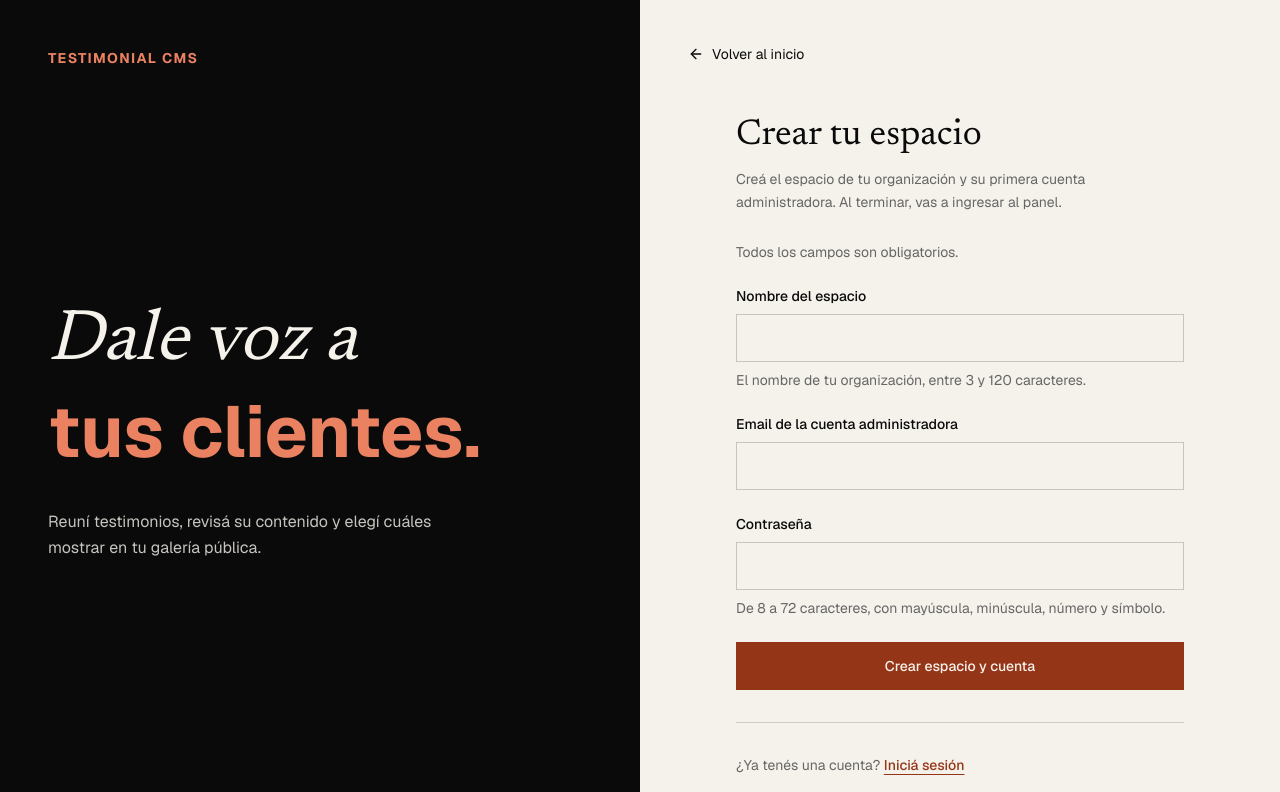
Test: authentication screens › does not navigate or clear session state when registration fails
The image size is (1280, 792).
Type "Espacio sintético" into the field labelled "Nombre del espacio".
click(960, 338); type("Espacio sintético")  # box [736,314,1184,362]
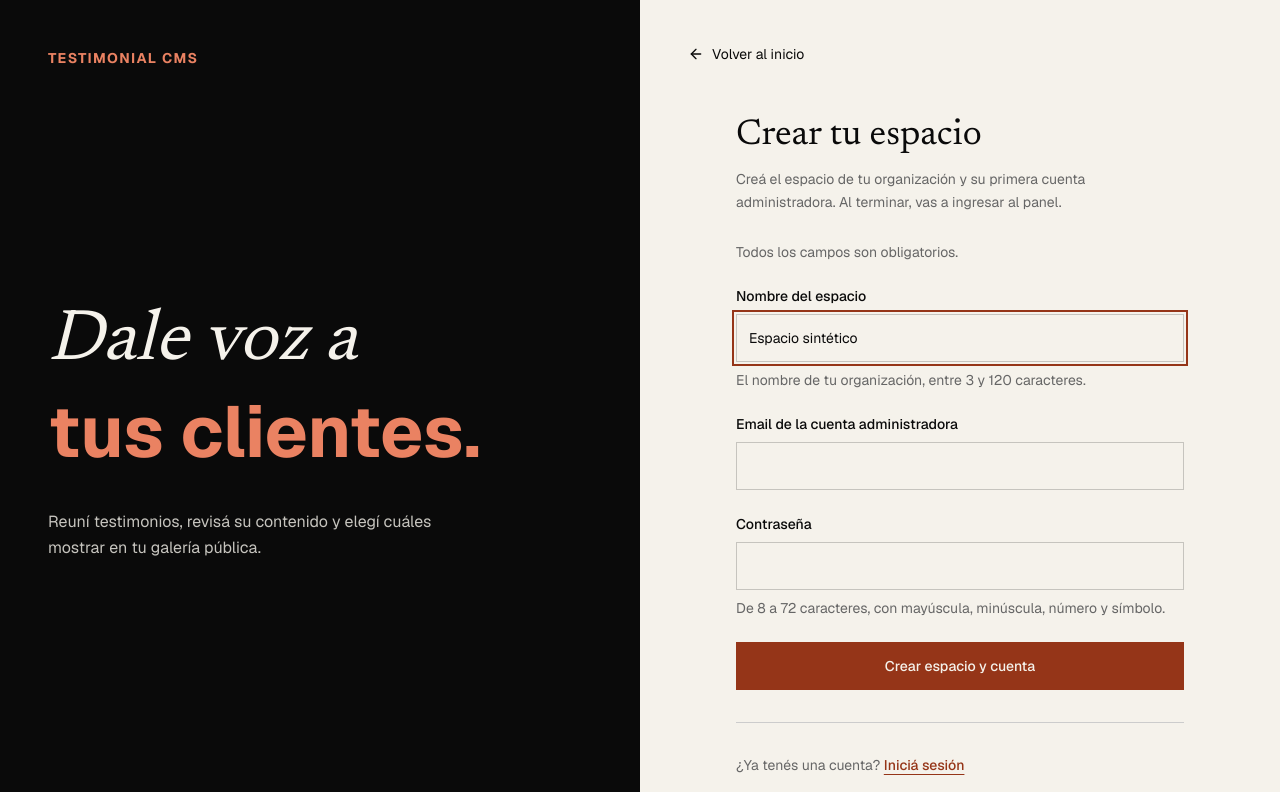
Type "admin@example.invalid" into the field labelled "Email de la cuenta administradora".
click(960, 466); type("admin@example.invalid")  # box [736,442,1184,490]
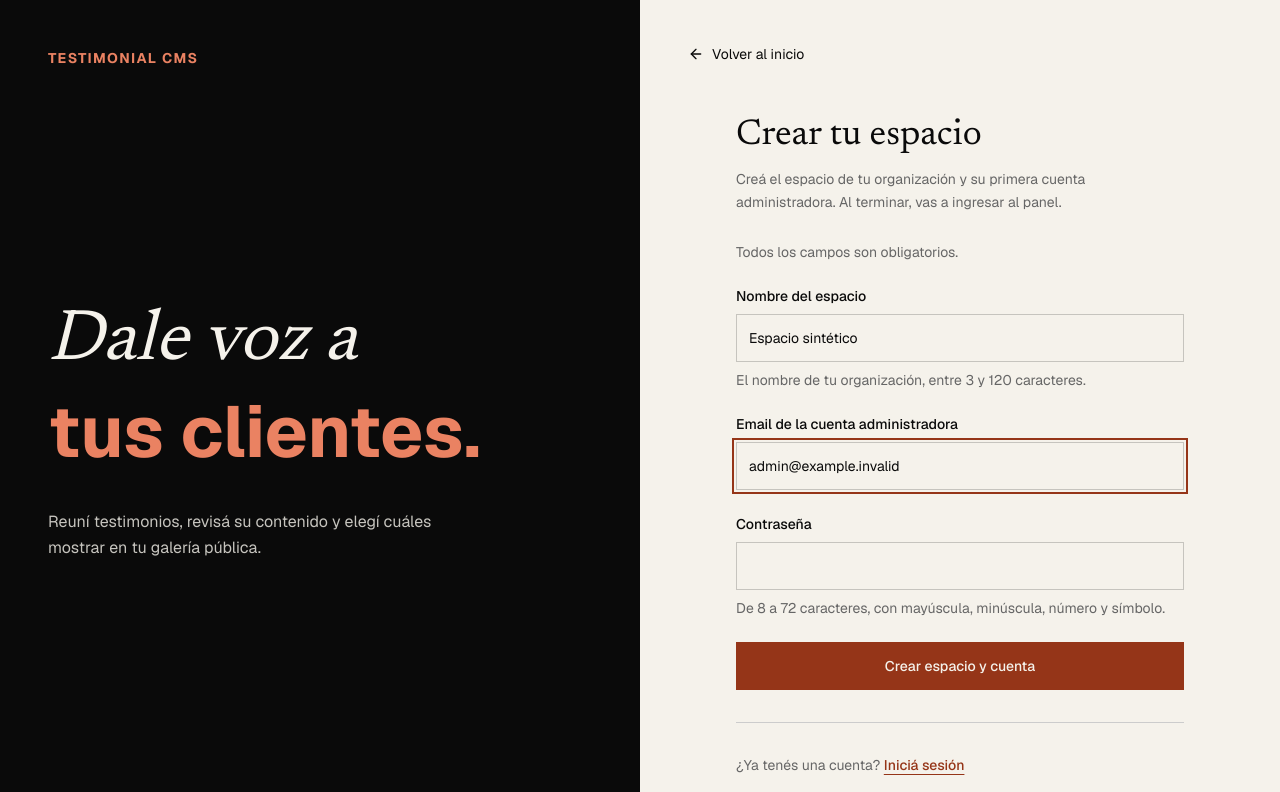
Type "Synthetic8!" into the password field labelled "Contraseña".
click(960, 566); type("Synthetic8!")  # box [736,542,1184,590]
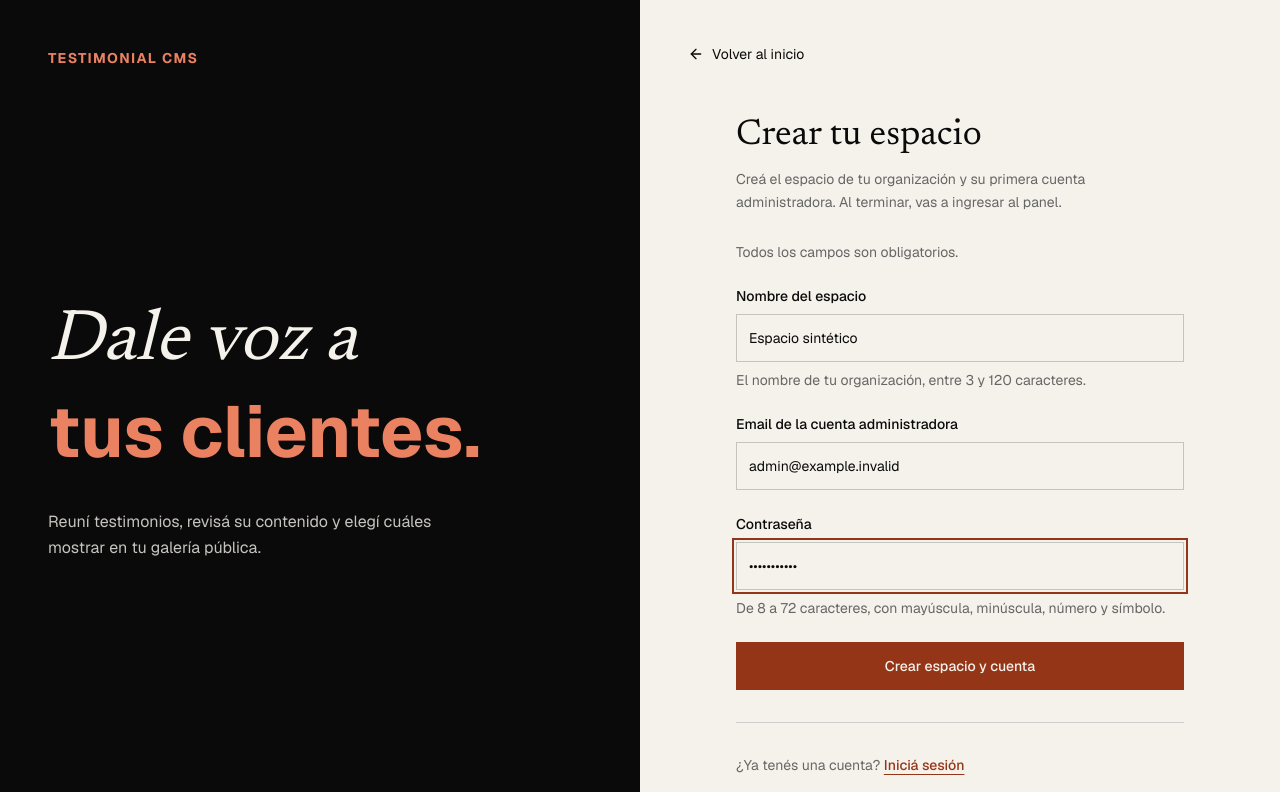
Click the button "Crear espacio y cuenta".
click(960, 666)  # box [736,642,1184,690]
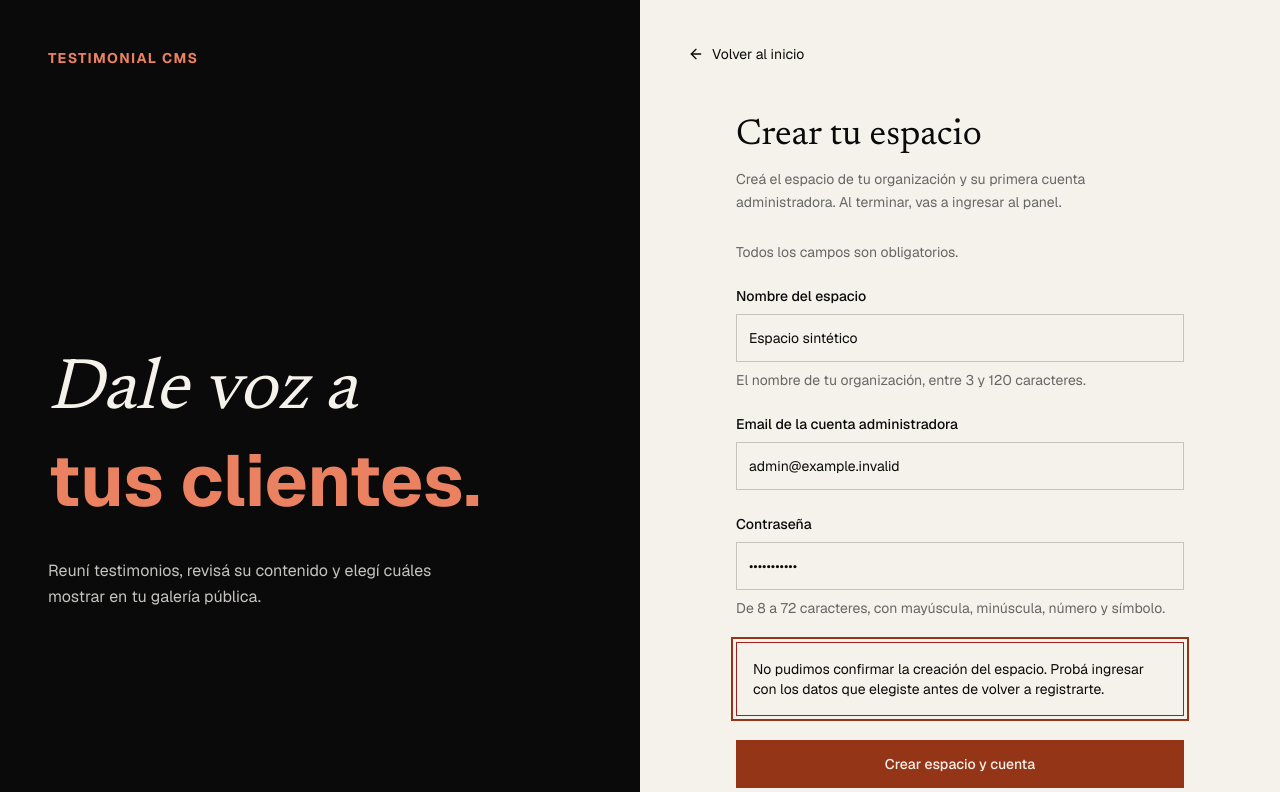
Result: the message shows "No pudimos confirmar" at [753,660,1144,698]
